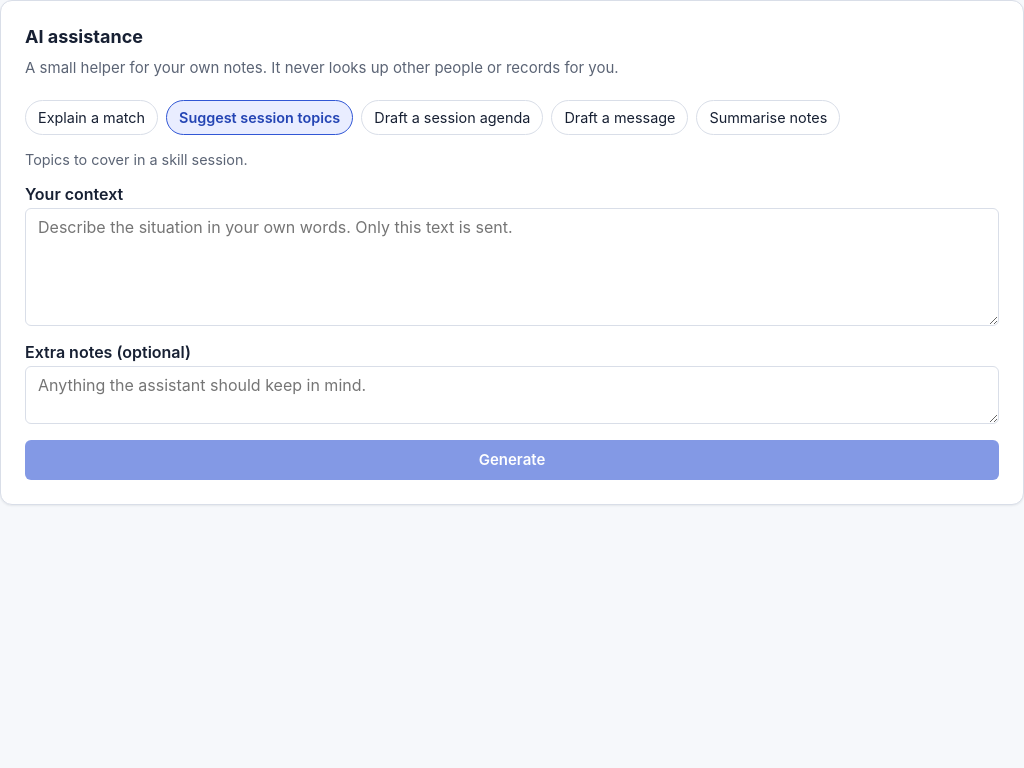
Test case: AiAssistancePanel › shows an error state when the request fails
This screenshot has width=1024, height=768.
Replace the text in the text box with placeholder "Describe the situation" with "I want to learn advanced Python from a verified peer." at (512, 267), box x1=25 y1=208 x2=999 y2=326
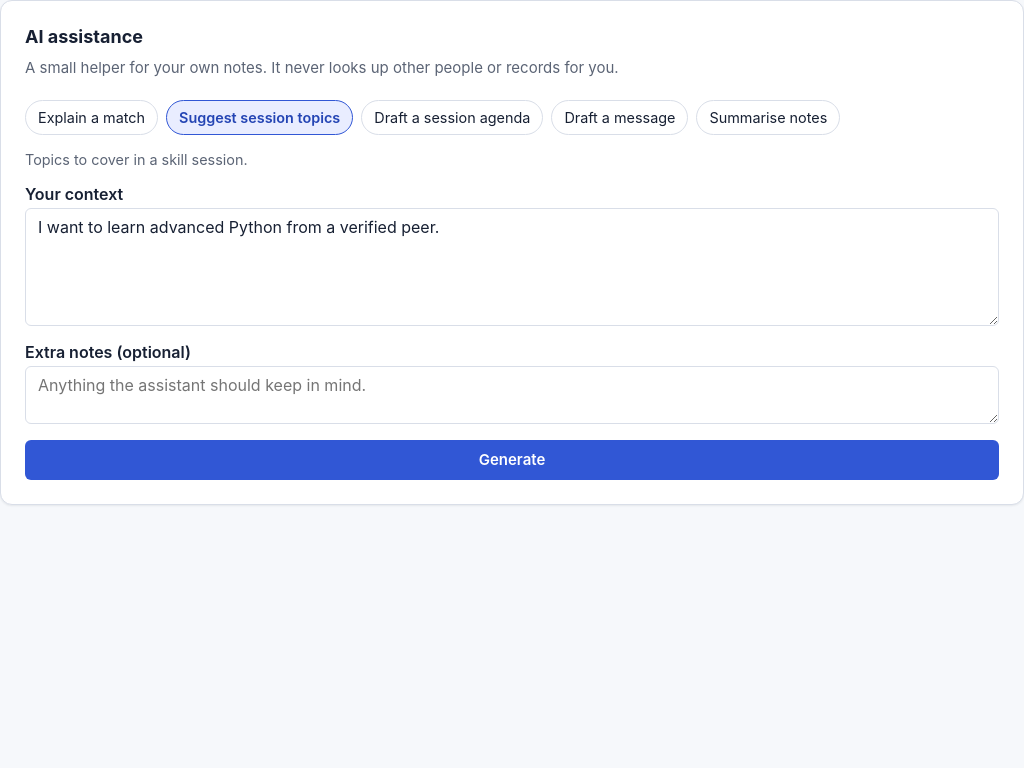
Click the button "Generate".
click(512, 460)  # box x1=25 y1=440 x2=999 y2=480
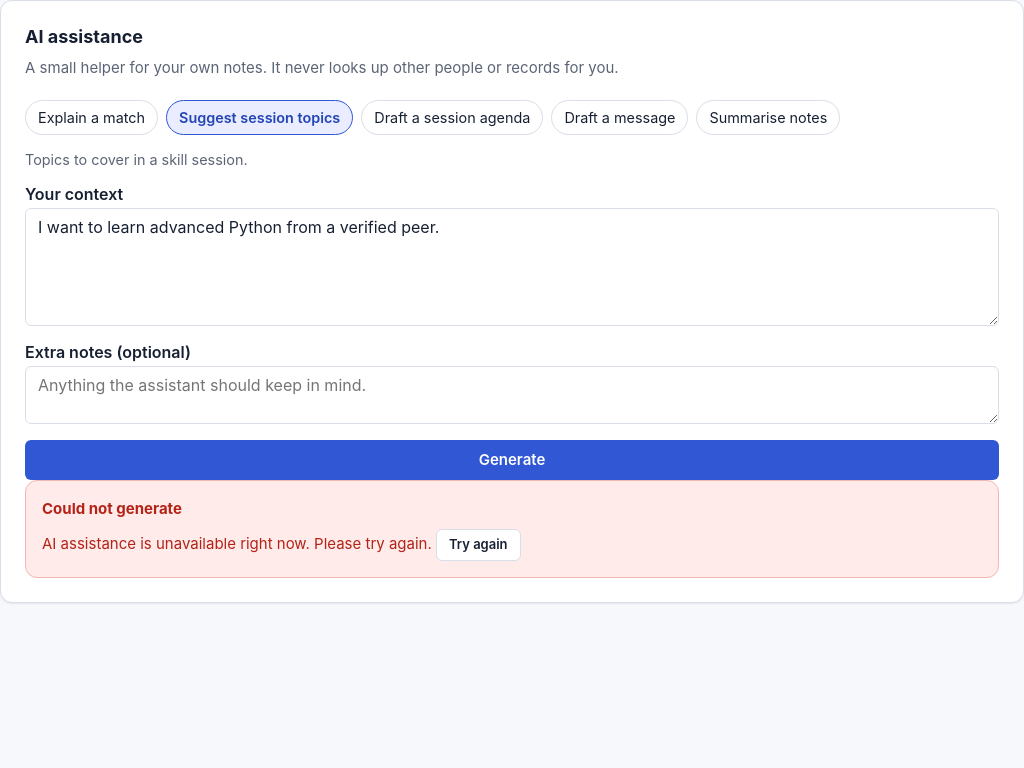
expect the text "AI assistance is unavailable right now. Please try again." is shown: met, box x1=42 y1=534 x2=432 y2=553
